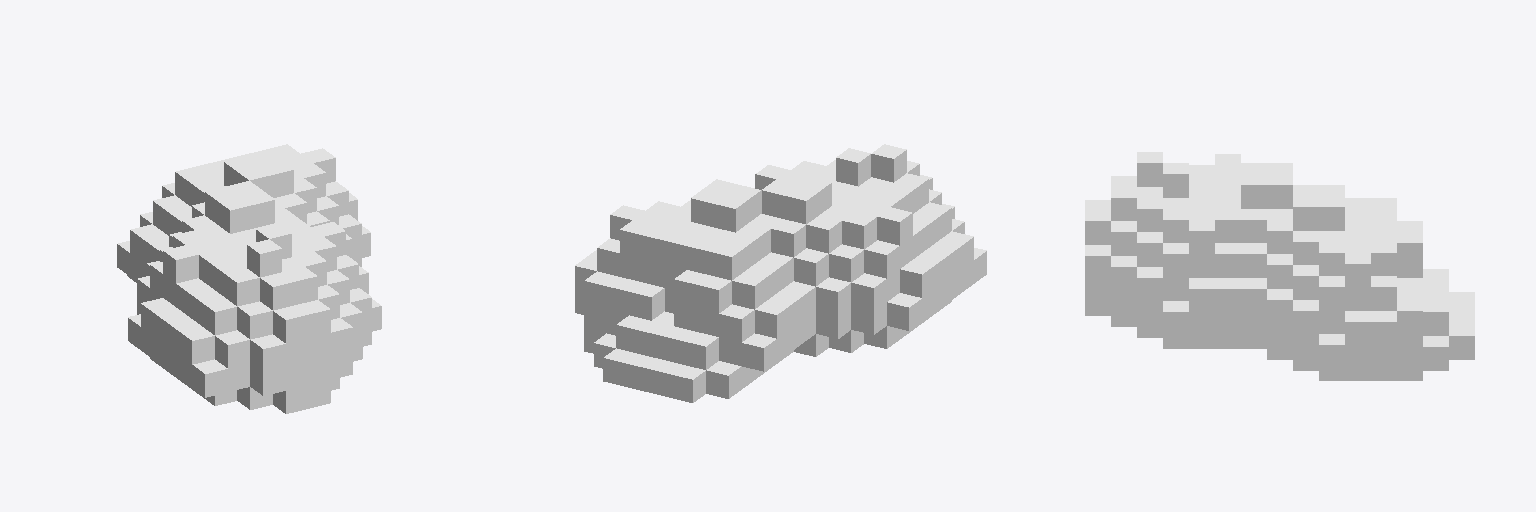
File: map_Second_Stage-0.obj
3 views of the same model, side by side, from view 1: azimuth 30°, elevation 25°; view 2: azimuth 150°, elevation 25°; view 3: azimuth 270°, elevation 25° (orthographic).
Visible parts, largest first — view 1: object 1; view 2: object 1; view 3: object 1.
Part boxes in pixels (left/top/right/bottom): object 1: left=117, top=144, right=381, bottom=413; object 1: left=575, top=144, right=986, bottom=402; object 1: left=1085, top=152, right=1474, bottom=380.
Size of the model in its own units: 1.2 by 0.6 by 1.5.